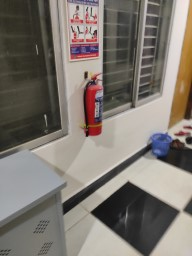fire_extinguisher: (60, 118, 103, 144)
